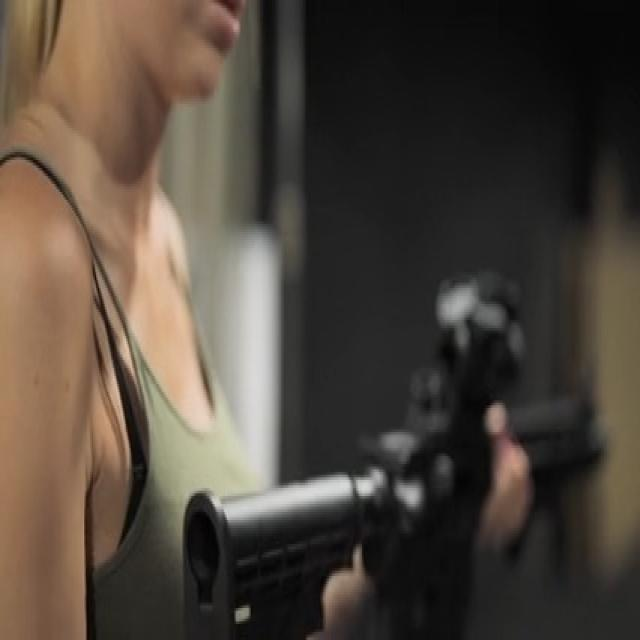Gun_Holder: (150, 245, 640, 640)
Person: (0, 0, 369, 640)
